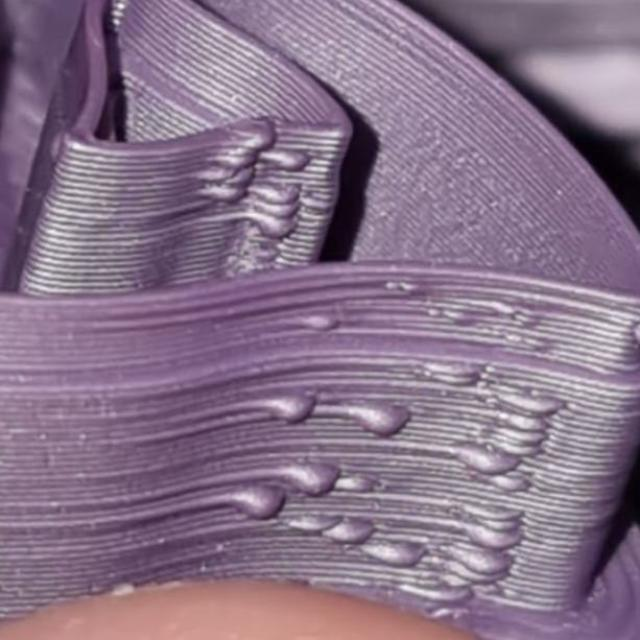zits: (444, 549, 508, 594), (358, 394, 414, 442), (234, 482, 292, 527), (424, 354, 484, 396), (264, 384, 314, 427), (328, 464, 384, 501), (286, 459, 338, 498), (372, 536, 425, 574), (496, 416, 544, 456), (316, 516, 372, 550), (464, 446, 514, 482), (468, 524, 524, 554), (522, 384, 562, 424), (272, 142, 310, 178), (257, 182, 300, 211), (300, 309, 337, 341), (258, 215, 295, 242), (240, 120, 272, 150), (255, 198, 301, 218), (217, 179, 246, 209), (220, 145, 254, 168), (197, 158, 227, 184)
